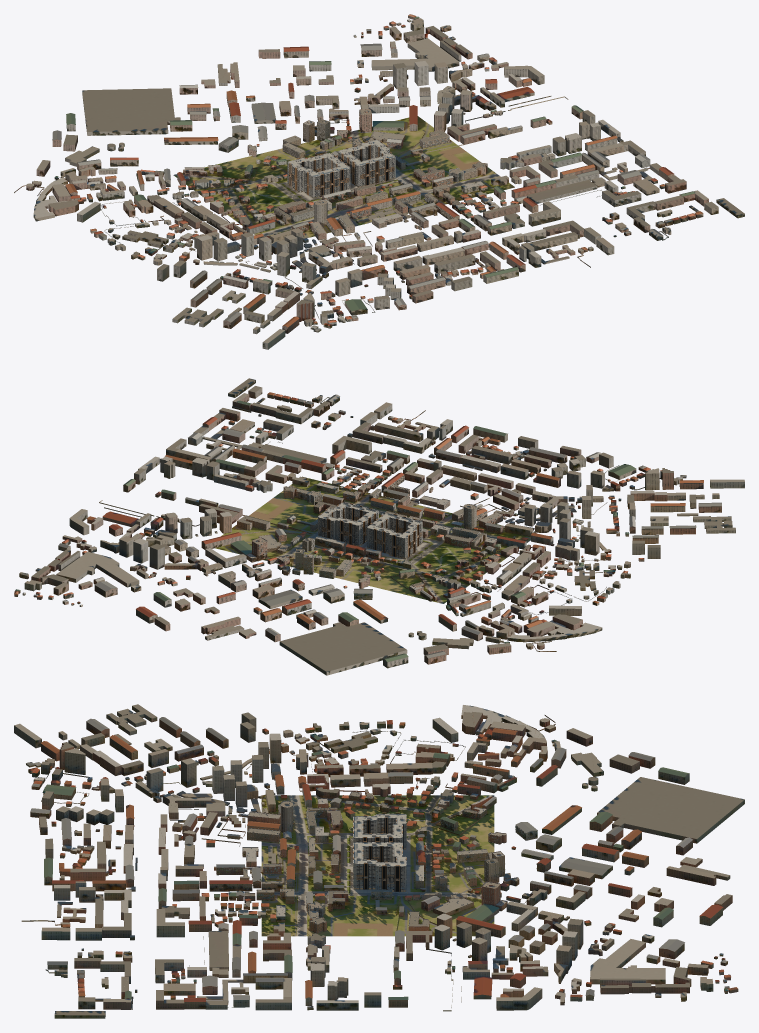
File: new-komitas-complex-mobile.glb
3 views of the same model, one above another, from view 1: azimuth 30°, elevation 25°; view 2: azimuth 150°, elevation 25°; view 3: azimuth 270°, elevation 25° (orthographic). The views are drawn at different scales.
Parts seen in each view (by area): view 1: WEB_NK_ContextFar, WEB_NK_ContextNearE, WEB_NK_ContextNearW, WEB_NK_Ground_01, WEB_NK_Ground_20, WEB_NK_A_Shell, WEB_NK_Ground_21, WEB_NK_B_Shell, WEB_NK_Ground_00, WEB_NK_A_Glazing, WEB_NK_B_Glazing, WEB_NK_A_Balconies (+3 smaller); view 2: WEB_NK_ContextFar, WEB_NK_ContextNearE, WEB_NK_ContextNearW, WEB_NK_Ground_01, WEB_NK_Ground_20, WEB_NK_Ground_21, WEB_NK_A_Shell, WEB_NK_Ground_00, WEB_NK_B_Shell, WEB_NK_Ground_11, WEB_NK_A_Glazing, WEB_NK_B_Glazing (+3 smaller); view 3: WEB_NK_ContextFar, WEB_NK_ContextNearE, WEB_NK_ContextNearW, WEB_NK_Ground_20, WEB_NK_Ground_01, WEB_NK_Ground_10, WEB_NK_Ground_21, WEB_NK_Ground_11, WEB_NK_Ground_00, WEB_NK_B_Shell, WEB_NK_B_Glazing, WEB_NK_A_Shell (+3 smaller).
Boxes of the visible parts, left/top/right/bottom form: WEB_NK_ContextFar: left=14, top=14, right=744, bottom=349; WEB_NK_ContextNearE: left=275, top=109, right=487, bottom=230; WEB_NK_ContextNearW: left=208, top=126, right=402, bottom=246; WEB_NK_Ground_01: left=173, top=155, right=298, bottom=210; WEB_NK_Ground_20: left=395, top=151, right=514, bottom=204; WEB_NK_A_Shell: left=287, top=153, right=350, bottom=198; WEB_NK_Ground_21: left=336, top=116, right=465, bottom=168; WEB_NK_B_Shell: left=338, top=140, right=395, bottom=186; WEB_NK_Ground_00: left=224, top=191, right=343, bottom=238; WEB_NK_A_Glazing: left=287, top=154, right=349, bottom=198; WEB_NK_B_Glazing: left=339, top=142, right=395, bottom=187; WEB_NK_A_Balconies: left=287, top=153, right=349, bottom=196; WEB_NK_ContextFar: left=14, top=378, right=744, bottom=675; WEB_NK_ContextNearE: left=230, top=472, right=433, bottom=591; WEB_NK_ContextNearW: left=308, top=495, right=502, bottom=599; WEB_NK_Ground_01: left=368, top=551, right=486, bottom=603; WEB_NK_Ground_20: left=255, top=476, right=370, bottom=522; WEB_NK_Ground_21: left=215, top=511, right=317, bottom=565; WEB_NK_A_Shell: left=367, top=513, right=422, bottom=558; WEB_NK_Ground_00: left=417, top=520, right=530, bottom=567; WEB_NK_B_Shell: left=318, top=502, right=378, bottom=546; WEB_NK_Ground_11: left=286, top=541, right=400, bottom=583; WEB_NK_A_Glazing: left=367, top=514, right=422, bottom=558; WEB_NK_B_Glazing: left=318, top=504, right=377, bottom=546; WEB_NK_ContextFar: left=14, top=704, right=744, bottom=1018; WEB_NK_ContextNearE: left=209, top=851, right=551, bottom=933; WEB_NK_ContextNearW: left=201, top=791, right=553, bottom=871; WEB_NK_Ground_20: left=261, top=889, right=377, bottom=936; WEB_NK_Ground_01: left=378, top=795, right=494, bottom=842; WEB_NK_Ground_10: left=261, top=842, right=353, bottom=889; WEB_NK_Ground_21: left=378, top=889, right=494, bottom=936; WEB_NK_Ground_11: left=403, top=842, right=494, bottom=889; WEB_NK_Ground_00: left=261, top=795, right=377, bottom=842; WEB_NK_B_Shell: left=353, top=841, right=406, bottom=892; WEB_NK_B_Glazing: left=354, top=842, right=405, bottom=891; WEB_NK_A_Shell: left=353, top=812, right=406, bottom=849.
Size of what is drawn, in the model's own units: 1454 by 58.9 by 1445.
Materials: 20 (14 with a texture image).
